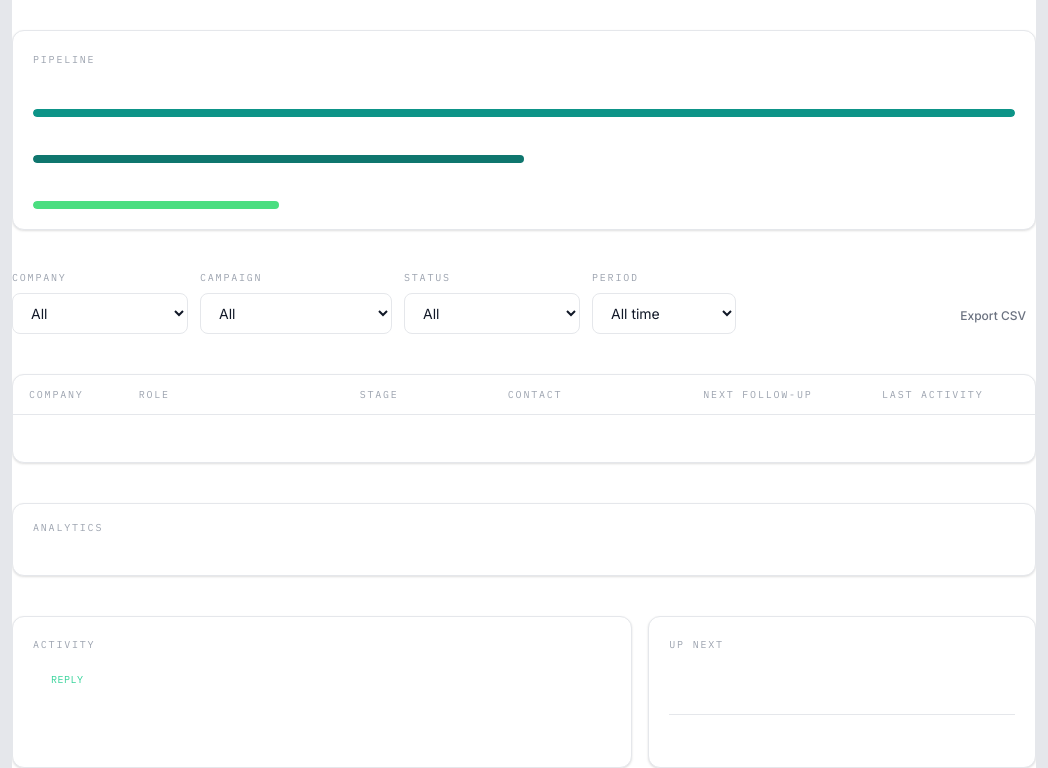
Pipeline analytics › marks the best-performing resume
(page scrolled)
Click the button "Analytics" at coordinates (68, 527), box [13, 504, 1035, 574]
(page scrolled)
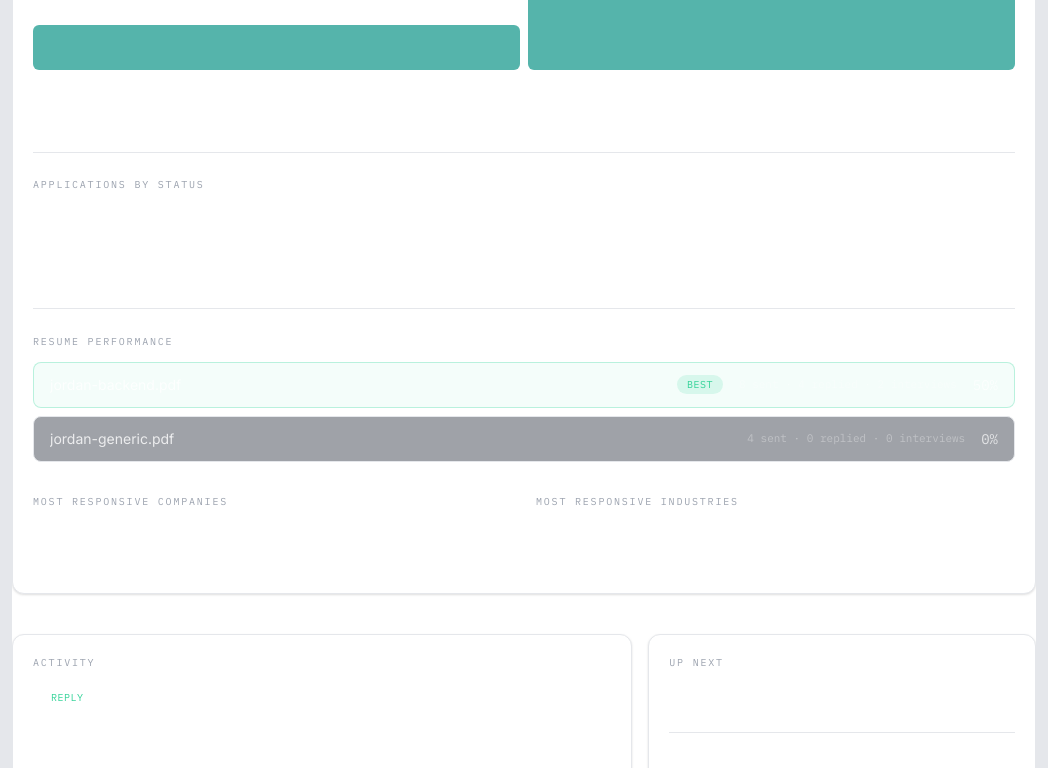
Expected: the text "best" is shown, [677, 375, 723, 394]
